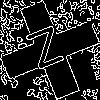Z: (25, 25, 70, 79)
